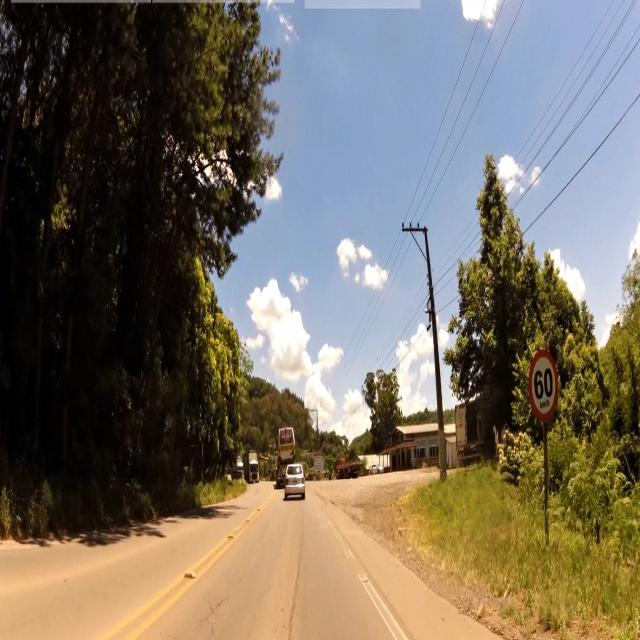R-19: (531, 349, 557, 427)
